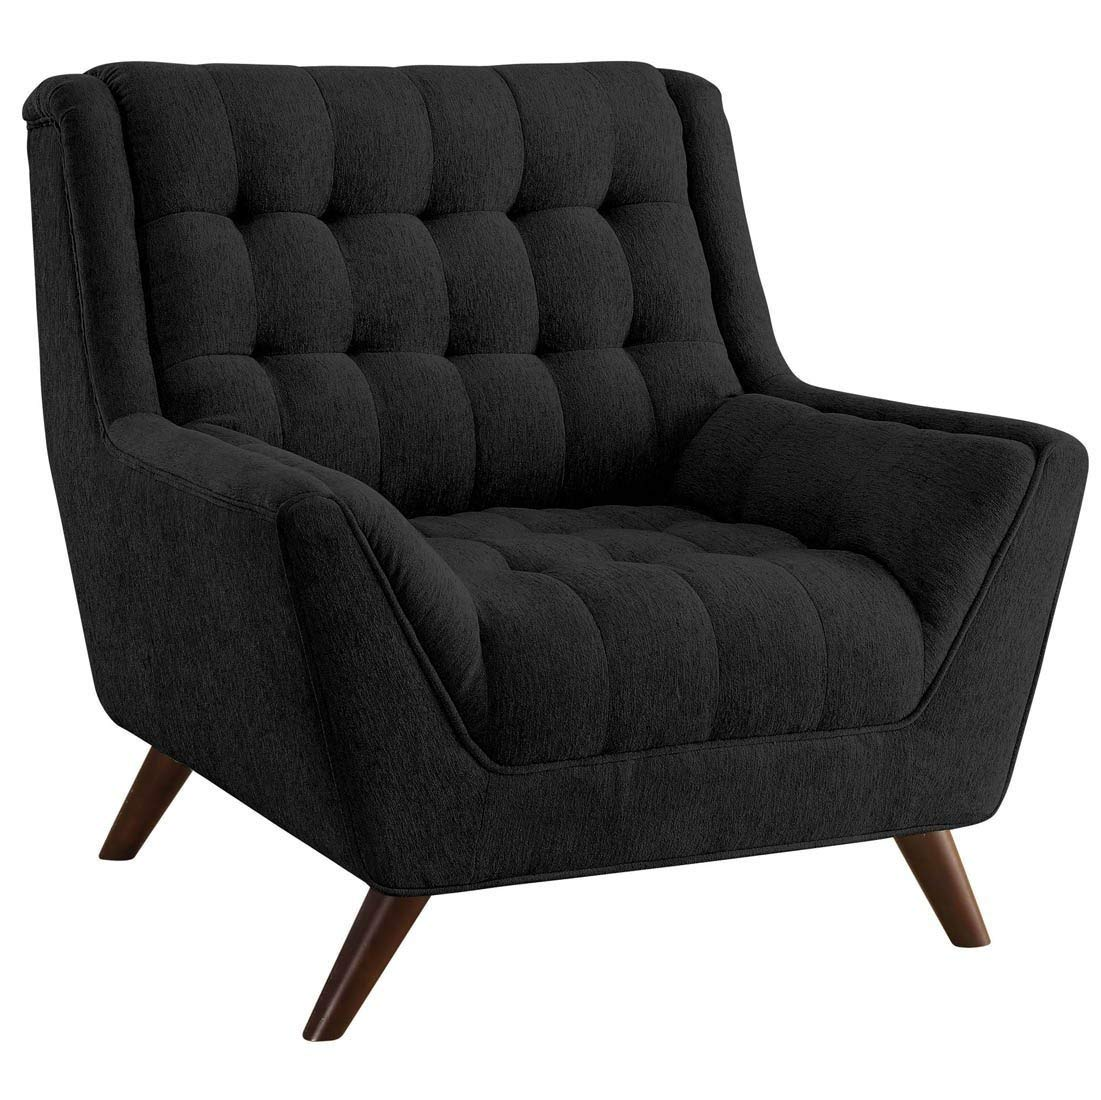chairs: (15, 58, 1089, 1045)
